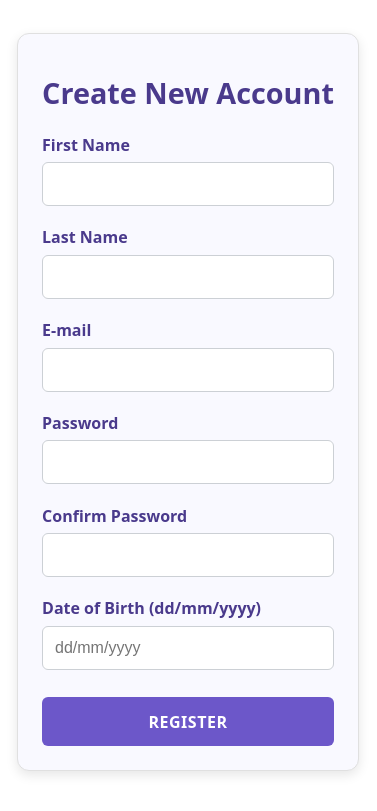
Test: Form Tests › shows password mismatch error
The image size is (377, 811).
Type "password123" into the password field labelled "Password" at (188, 462), box [42,440,334,484]
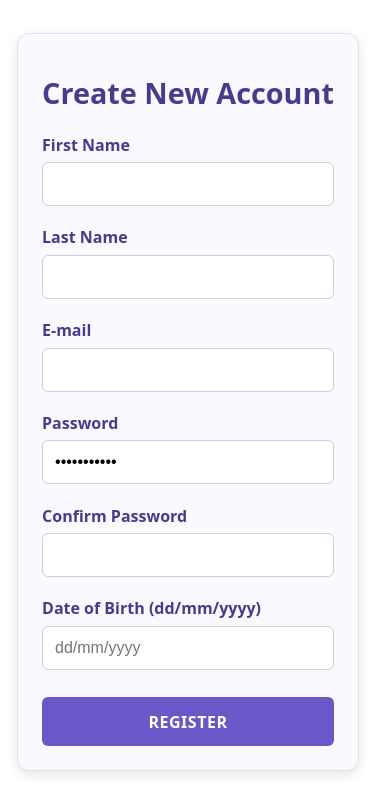
Type "different" into the password field labelled "Confirm Password" at (188, 555), box [42,533,334,577]
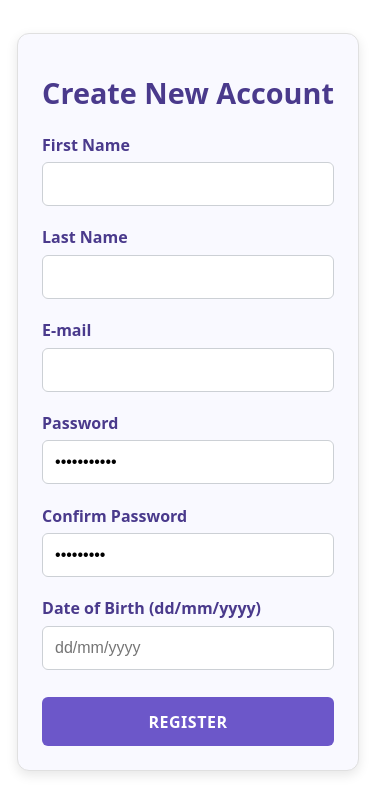
Click the button "REGISTER" at (188, 722), box [42,697,334,746]
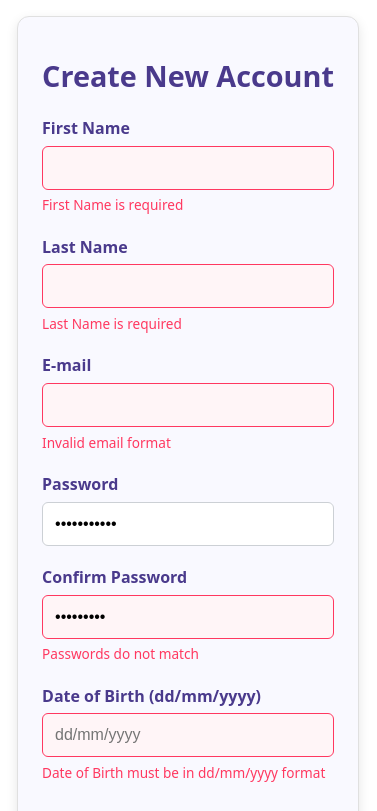
Expected: the text "Passwords do not match" is shown, [42,644,199,663]
